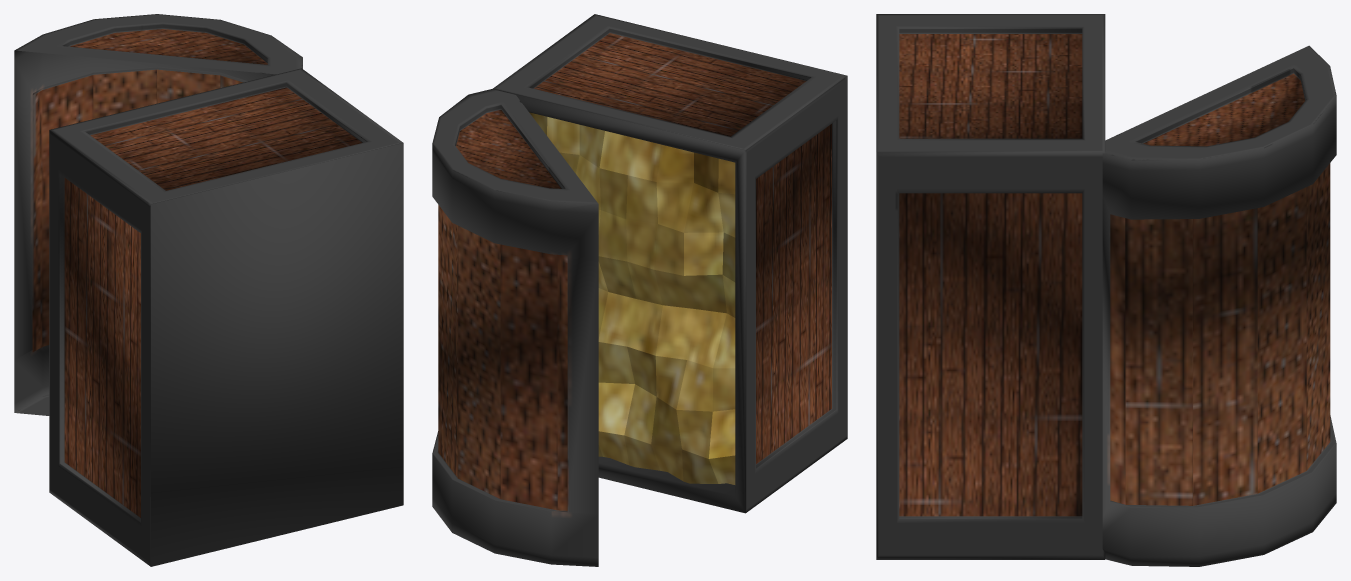
Rendered from Chest.fbx.
The picture shows the model from 3 angles, left to right: view 1: azimuth 30°, elevation 25°; view 2: azimuth 150°, elevation 25°; view 3: azimuth 270°, elevation 25°; orthographic projection. The views are drawn at different scales.
Parts seen in each view (by area): view 1: Chest; view 2: Chest; view 3: Chest.
Boxes of the visible parts, bbox=[...] form: Chest: bbox=[14, 14, 403, 566]; Chest: bbox=[432, 14, 847, 566]; Chest: bbox=[876, 14, 1336, 566].
Bounding box in the file's own units: 136 × 178 × 182.
